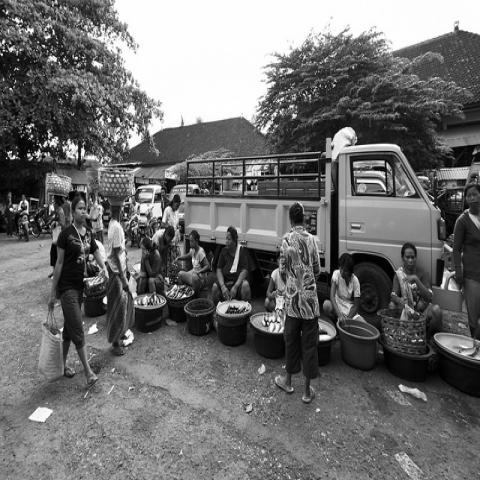car: (167, 182, 201, 241), (437, 186, 465, 238)
motorcycle: (29, 208, 56, 238), (125, 203, 142, 249), (144, 204, 160, 237), (18, 212, 31, 241)
truck: (184, 141, 448, 302), (134, 184, 162, 230)
